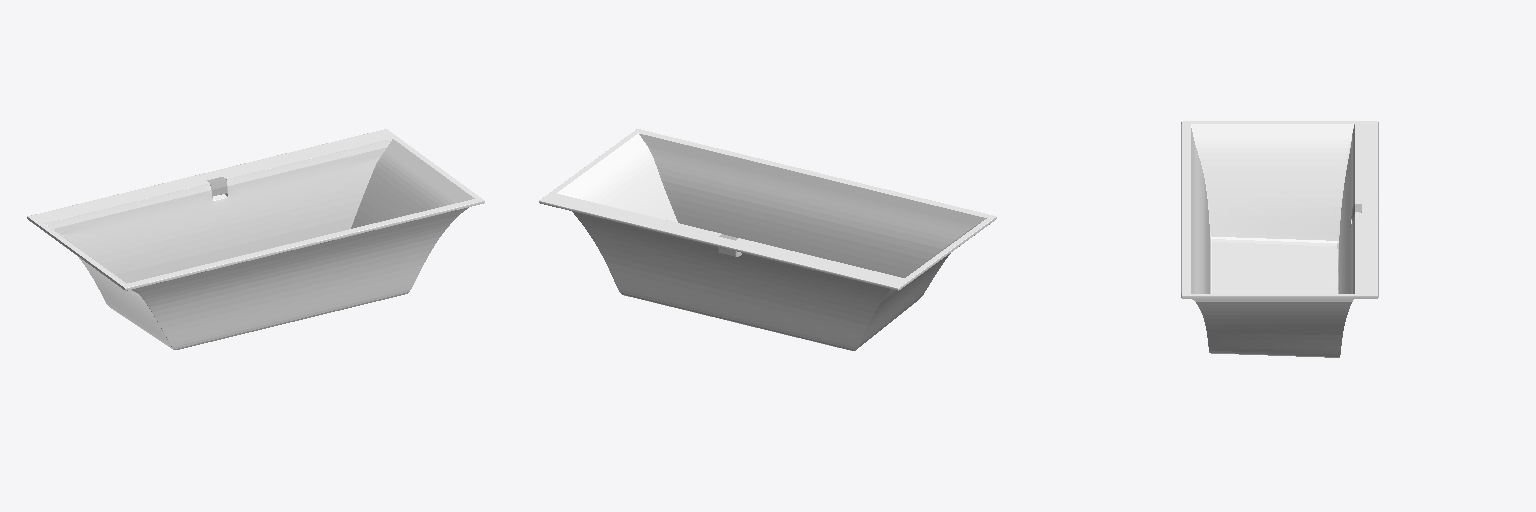
The picture shows the model from 3 angles: view 1: azimuth 30°, elevation 25°; view 2: azimuth 150°, elevation 25°; view 3: azimuth 270°, elevation 25°; orthographic projection.
Visible parts, largest first — view 1: Plane.001_Plane.003; view 2: Plane.001_Plane.003; view 3: Plane.001_Plane.003.
Boxes of the visible parts, x1,y1,x2,y2 form: Plane.001_Plane.003: [27, 129, 484, 349]; Plane.001_Plane.003: [539, 129, 996, 350]; Plane.001_Plane.003: [1181, 121, 1378, 357].
Bounding box in the file's own units: 190 × 47.89 × 90.07.
Materials: 3 (1 with a texture image).